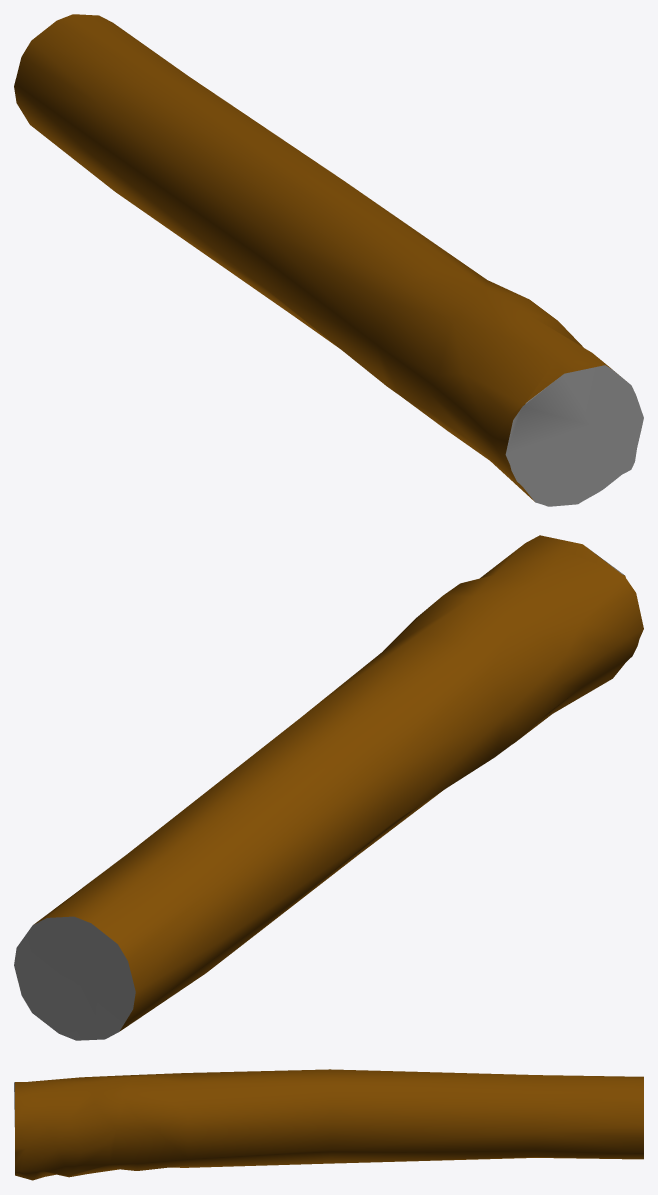
The model's file is Forest_pine_04_03_log.FBX.
3 views of the same model, one above another, from view 1: azimuth 30°, elevation 25°; view 2: azimuth 150°, elevation 25°; view 3: azimuth 270°, elevation 25° (orthographic). The views are drawn at different scales.
Visible parts, largest first — view 1: Forest_pine_04_03_log_LOD0; view 2: Forest_pine_04_03_log_LOD0; view 3: Forest_pine_04_03_log_LOD0.
Boxes of the visible parts, bbox=[...] form: Forest_pine_04_03_log_LOD0: bbox=[14, 14, 643, 506]; Forest_pine_04_03_log_LOD0: bbox=[14, 535, 643, 1040]; Forest_pine_04_03_log_LOD0: bbox=[14, 1069, 643, 1180].
Size of what is drawn, in the model's own units: 21.72 by 124 by 20.69.
